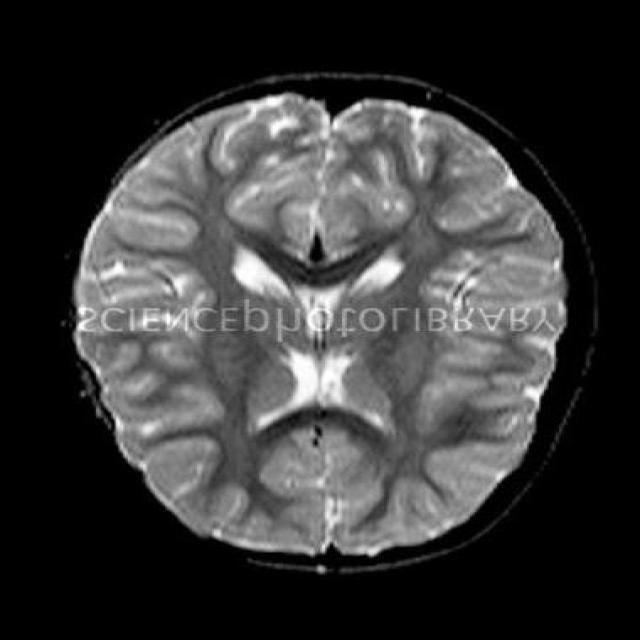notumor: (67, 75, 596, 574)
